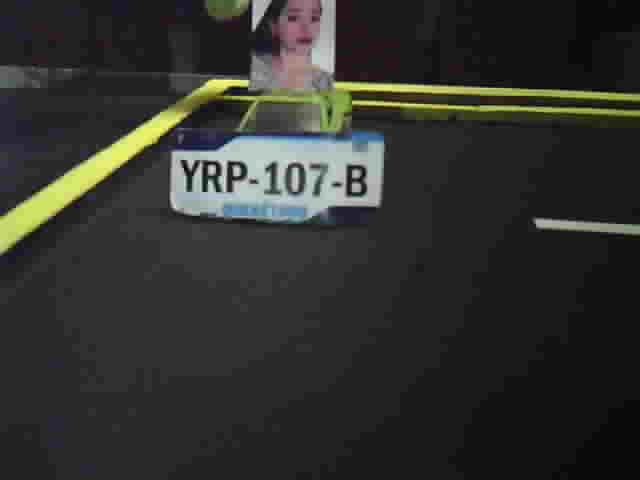PLACA: (167, 126, 388, 231)
ROSTRO: (253, 1, 335, 91)
